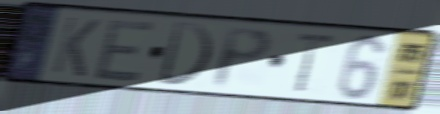6: (334, 32, 388, 103)
D: (154, 19, 215, 89)
E: (90, 18, 159, 84)
K: (48, 13, 103, 80)
P: (210, 25, 275, 92)
T: (291, 30, 340, 95)
